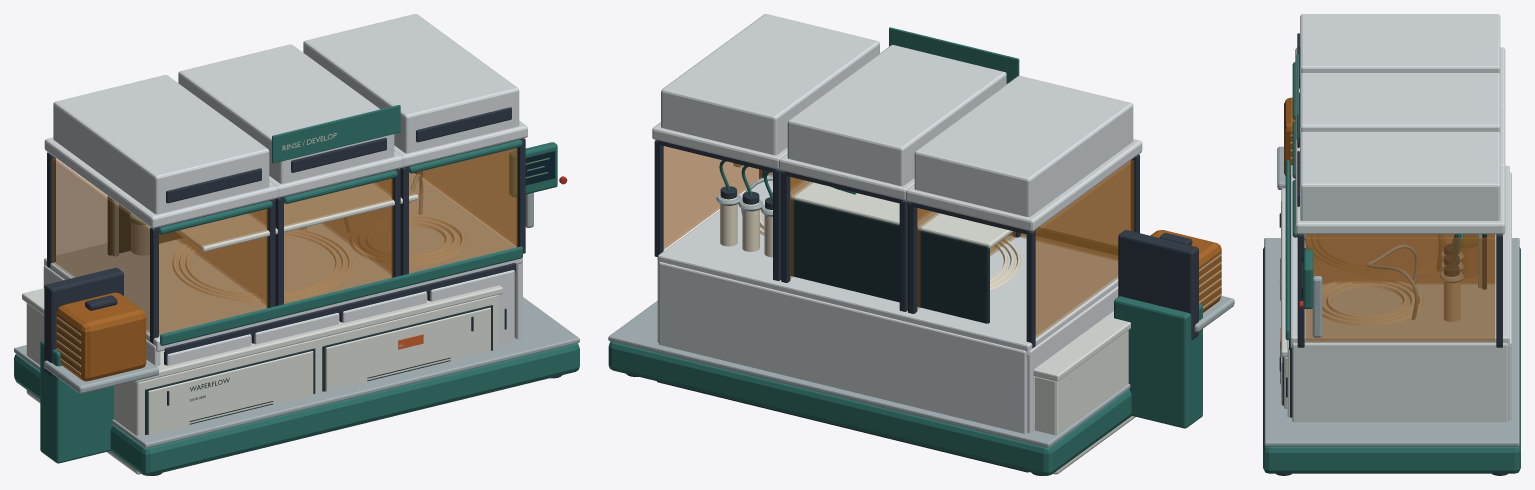
The model's file is equipment-developer.glb.
The picture shows the model from 3 angles, left to right: view 1: azimuth 30°, elevation 25°; view 2: azimuth 150°, elevation 25°; view 3: azimuth 270°, elevation 25°; orthographic projection. The views are drawn at different scales.
Visible parts, largest first — view 1: Upper develop drawer, Filtered ceiling, Upper develop drawer.002, Segmented service plinth, Upper develop drawer.001, Front observation window.002, Front observation window, Front observation window.001, Side observation window, Raised deck edge, Service door, Service door.001 (+43 smaller); view 2: Rear utility enclosure, Upper develop drawer, Upper develop drawer.001, Upper develop drawer.002, Filtered ceiling, Segmented service plinth, Track rear housing, Side observation window, Independent load port base, Pod docking bulkhead, Raised deck edge, Precision cabinet (+20 smaller); view 3: Side observation window.005, Upper develop drawer.002, Side service skin.001, Upper develop drawer, Upper develop drawer.001, Raised deck edge, Filtered ceiling, Segmented service plinth, Side observation window.004, Bay filtered canopy.002, Service identity rail, Satin service deck (+16 smaller).
Part boxes in pixels (<box>): Upper develop drawer: <box>53,75,269,214</box>; Filtered ceiling: <box>44,173,522,351</box>; Upper develop drawer.002: <box>303,14,519,153</box>; Segmented service plinth: <box>14,343,579,475</box>; Upper develop drawer.001: <box>178,44,394,183</box>; Front observation window.002: <box>409,148,517,273</box>; Front observation window: <box>159,209,268,335</box>; Front observation window.001: <box>284,178,393,303</box>; Side observation window: <box>52,158,149,333</box>; Raised deck edge: <box>14,297,579,448</box>; Service door: <box>148,351,313,434</box>; Service door.001: <box>325,307,490,391</box>; Rear utility enclosure: <box>659,262,1027,433</box>; Upper develop drawer: <box>914,76,1133,216</box>; Upper develop drawer.001: <box>787,45,1006,186</box>; Upper develop drawer.002: <box>661,14,879,155</box>; Filtered ceiling: <box>658,172,1118,356</box>; Segmented service plinth: <box>608,341,1131,475</box>; Track rear housing: <box>790,198,989,323</box>; Side observation window: <box>1035,160,1134,338</box>; Independent load port base: <box>1114,296,1202,428</box>; Pod docking bulkhead: <box>1118,230,1198,339</box>; Raised deck edge: <box>608,301,1130,447</box>; Precision cabinet: <box>1035,330,1135,474</box>; Side observation window.005: <box>1305,237,1495,341</box>; Upper develop drawer.002: <box>1300,131,1500,220</box>; Side service skin.001: <box>1292,343,1508,422</box>; Upper develop drawer: <box>1300,14,1500,74</box>; Upper develop drawer.001: <box>1300,73,1500,133</box>; Raised deck edge: <box>1264,238,1519,446</box>; Filtered ceiling: <box>1290,165,1509,347</box>; Segmented service plinth: <box>1263,247,1520,473</box>; Side observation window.004: <box>1305,234,1495,283</box>; Bay filtered canopy.002: <box>1295,165,1505,234</box>; Service identity rail: <box>1285,159,1289,340</box>; Satin service deck: <box>1281,188,1287,356</box>.
Size of the model in its own units: 7.98 by 4.62 by 3.7.
